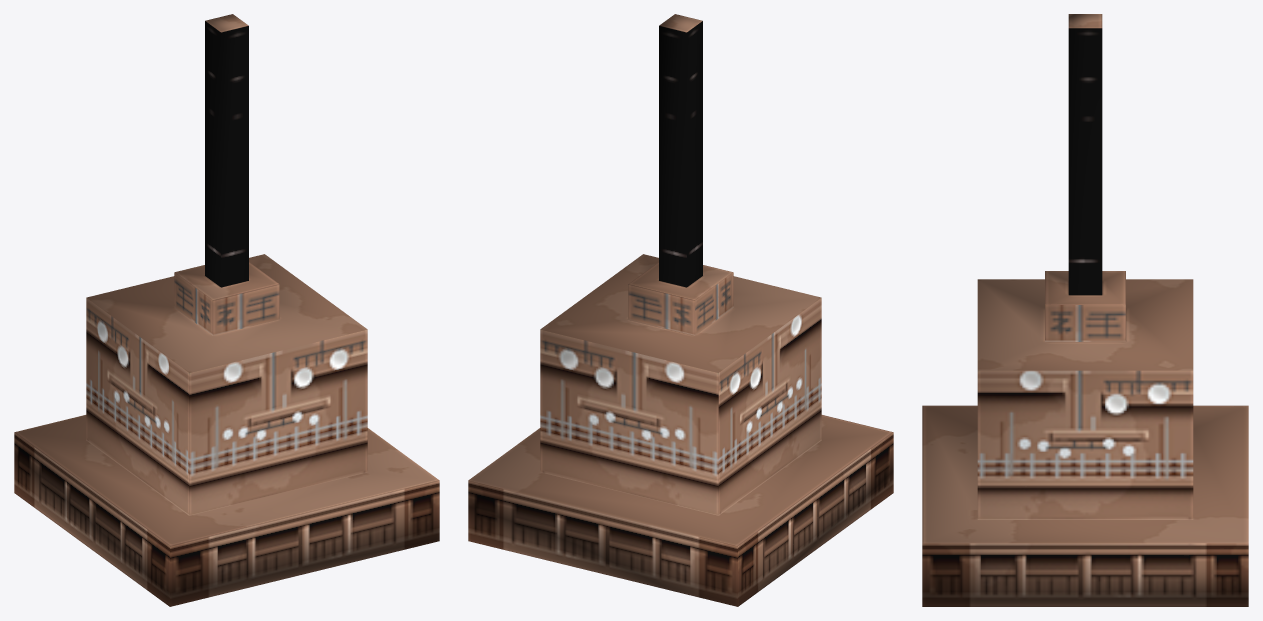
Rendered from eiffel3.glb.
3 views of the same model, side by side, from view 1: azimuth 30°, elevation 25°; view 2: azimuth 150°, elevation 25°; view 3: azimuth 270°, elevation 25° (orthographic). The views are drawn at different scales.
Visible parts, largest first — view 1: Box04; view 2: Box04; view 3: Box04.
Boxes of the visible parts, x1,y1,x2,y2 form: Box04: (14,14,439,606); Box04: (468,14,893,606); Box04: (922,14,1248,606).
Size of the model in its own units: 20.29 by 35.5 by 20.29.
1 material, 1 textured.
